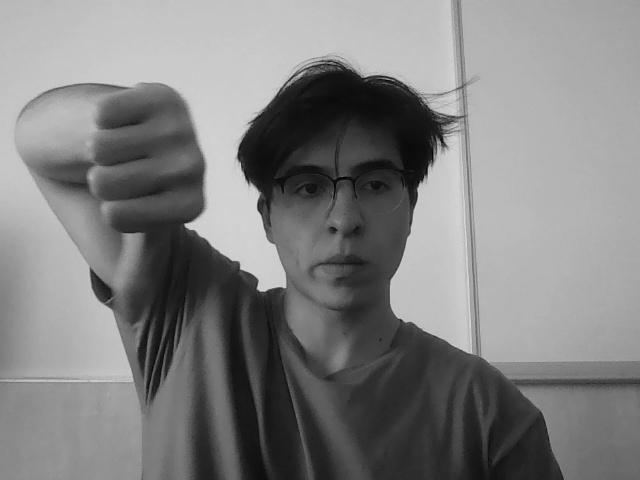bad: (45, 92, 225, 304)
